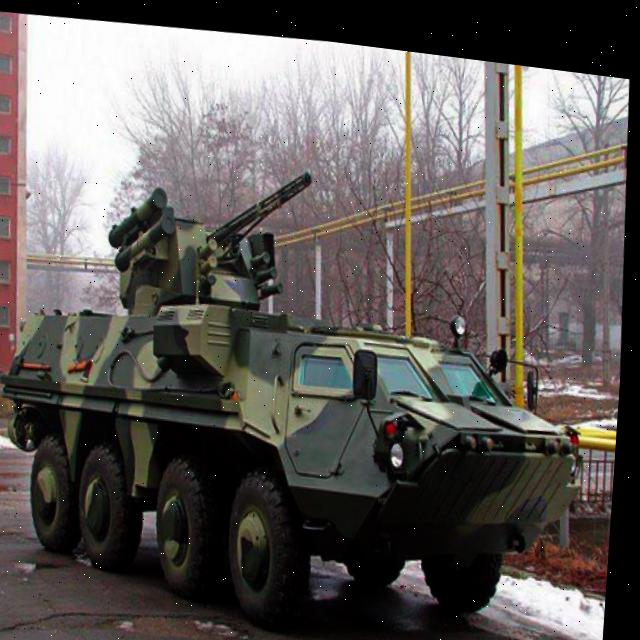MIL_APC: (1, 205, 594, 640)
